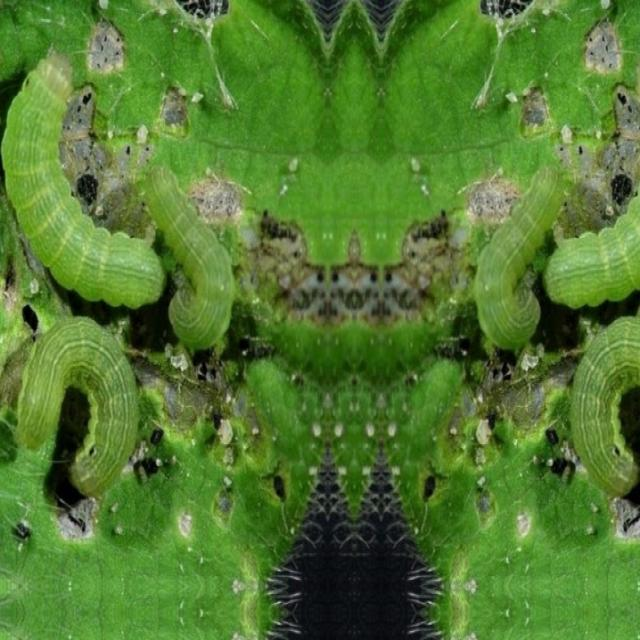armyworm: (0, 46, 166, 310), (14, 309, 141, 496), (152, 151, 239, 360), (480, 161, 560, 350), (572, 312, 639, 512), (546, 174, 640, 315)
